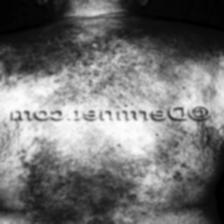Non-Cancerous Skin Condition: (14, 125, 188, 224), (0, 29, 216, 101)
